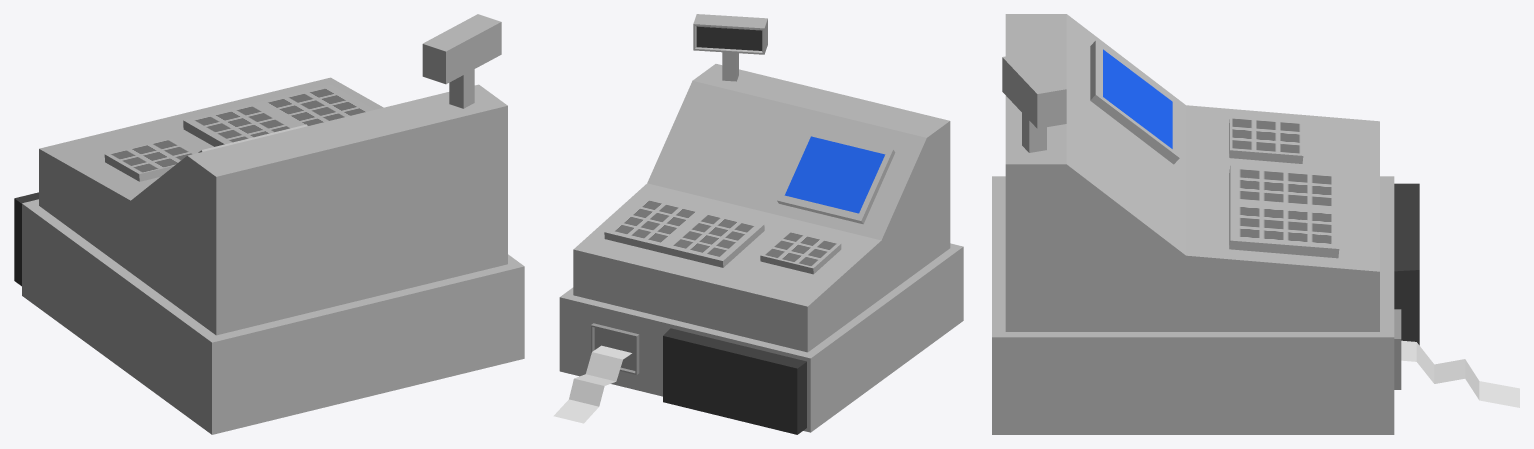
Rendered from Cash_register.fbx.
3 views of the same model, side by side, from view 1: azimuth 30°, elevation 25°; view 2: azimuth 150°, elevation 25°; view 3: azimuth 270°, elevation 25° (orthographic). The views are drawn at different scales.
Visible parts, largest first — view 1: Cube; view 2: Cube; view 3: Cube.
Boxes of the visible parts, bbox=[...] form: Cube: bbox=[14, 14, 524, 434]; Cube: bbox=[553, 14, 963, 434]; Cube: bbox=[992, 14, 1519, 434].
Bounding box in the file's own units: 533 × 738 × 524.
